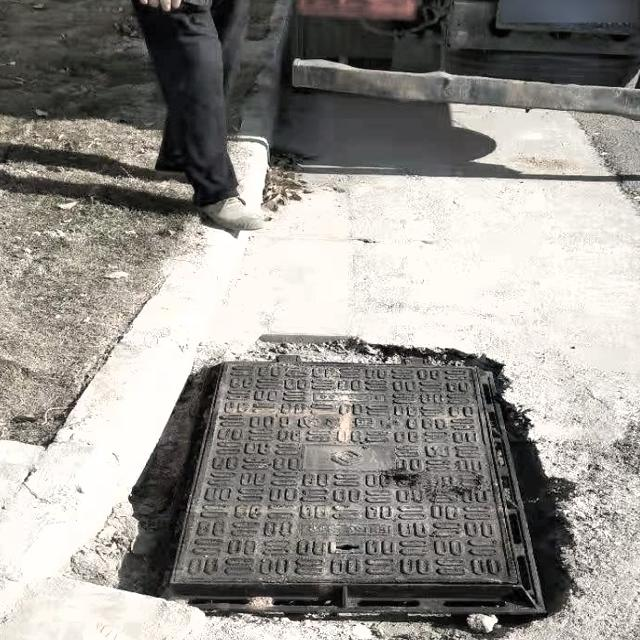circle: (111, 347, 576, 636)
